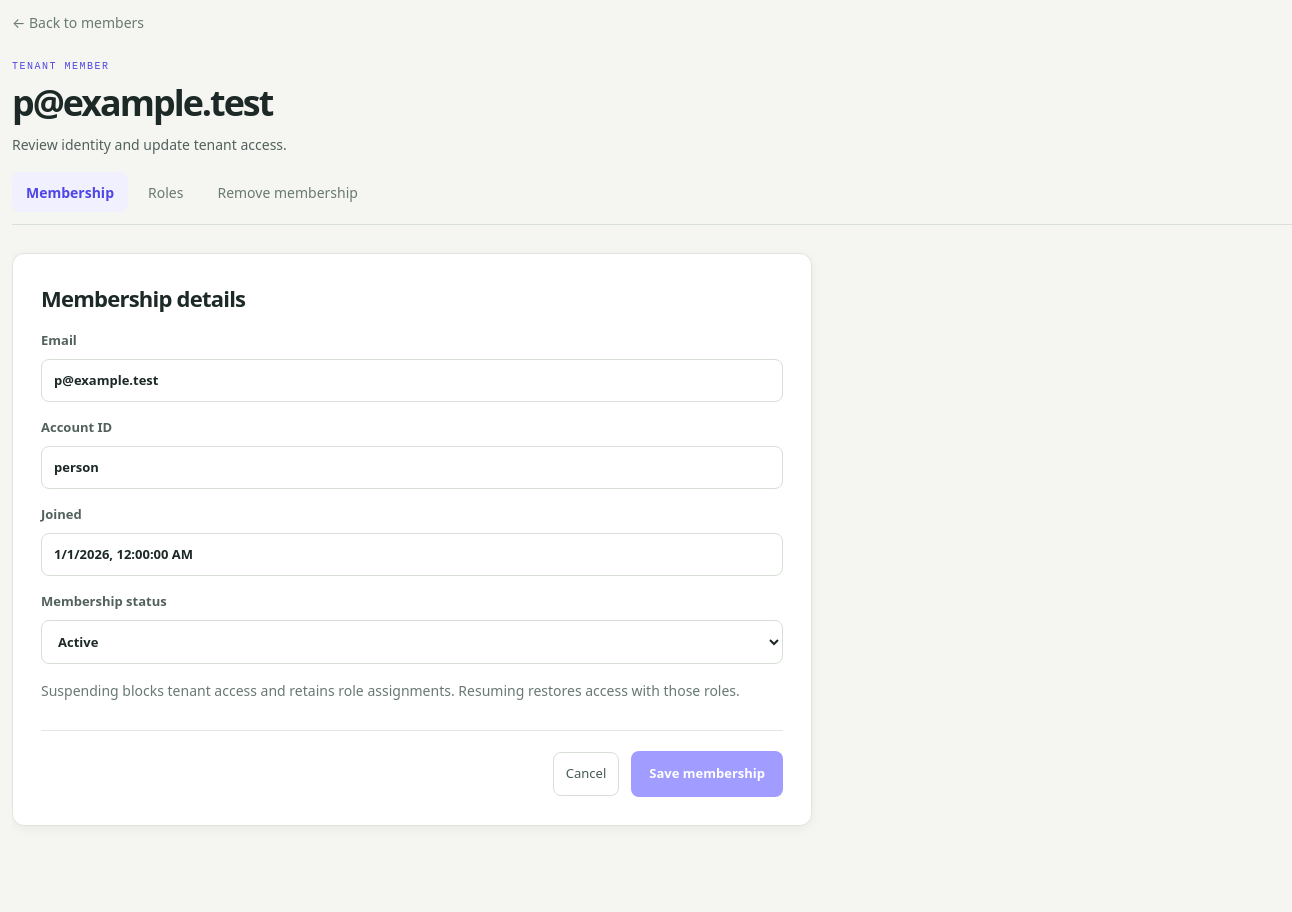
Test: shows a membership status form on an exact deep link without requesting invitations
Expected: the field showing "p@example.test" is shown, [41,359,783,402]
Select "Suspended" in the dropdown labelled "Membership status": {"x": 412, "y": 642} [41,620,783,664]
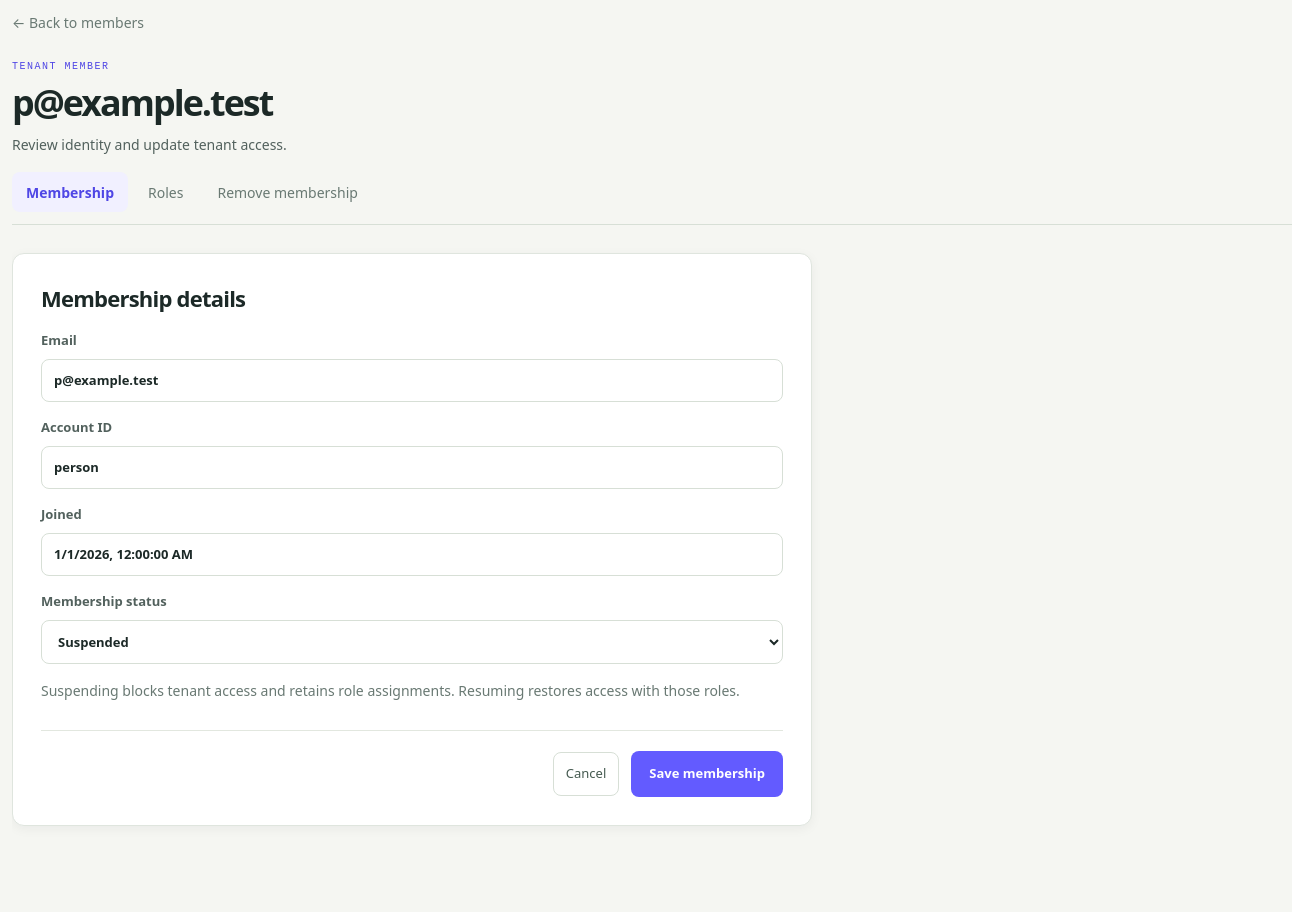
Click the button "Save membership": {"x": 707, "y": 774} [631,751,783,797]
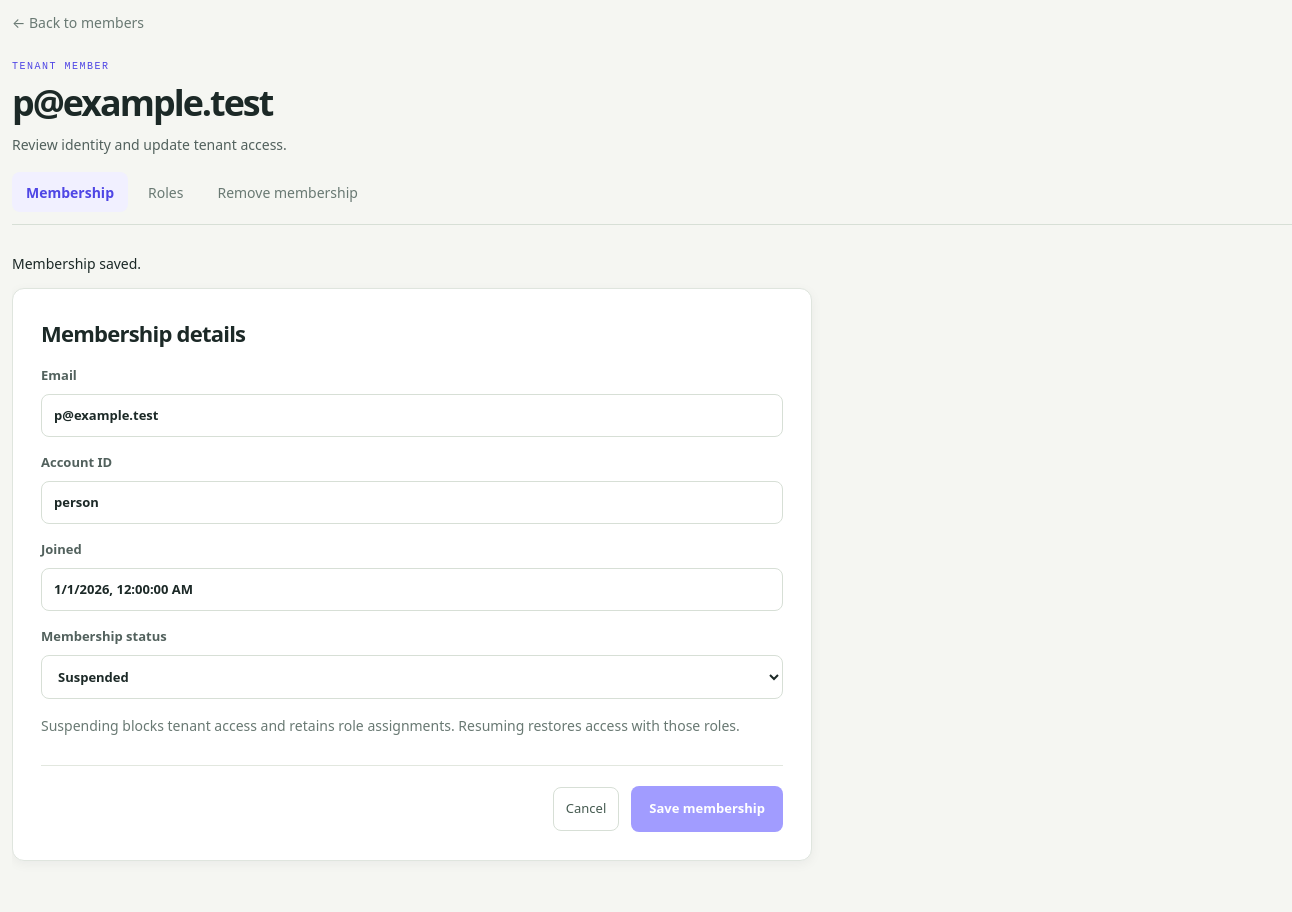
Expected: the text "Membership saved." is shown, [12,254,141,273]
